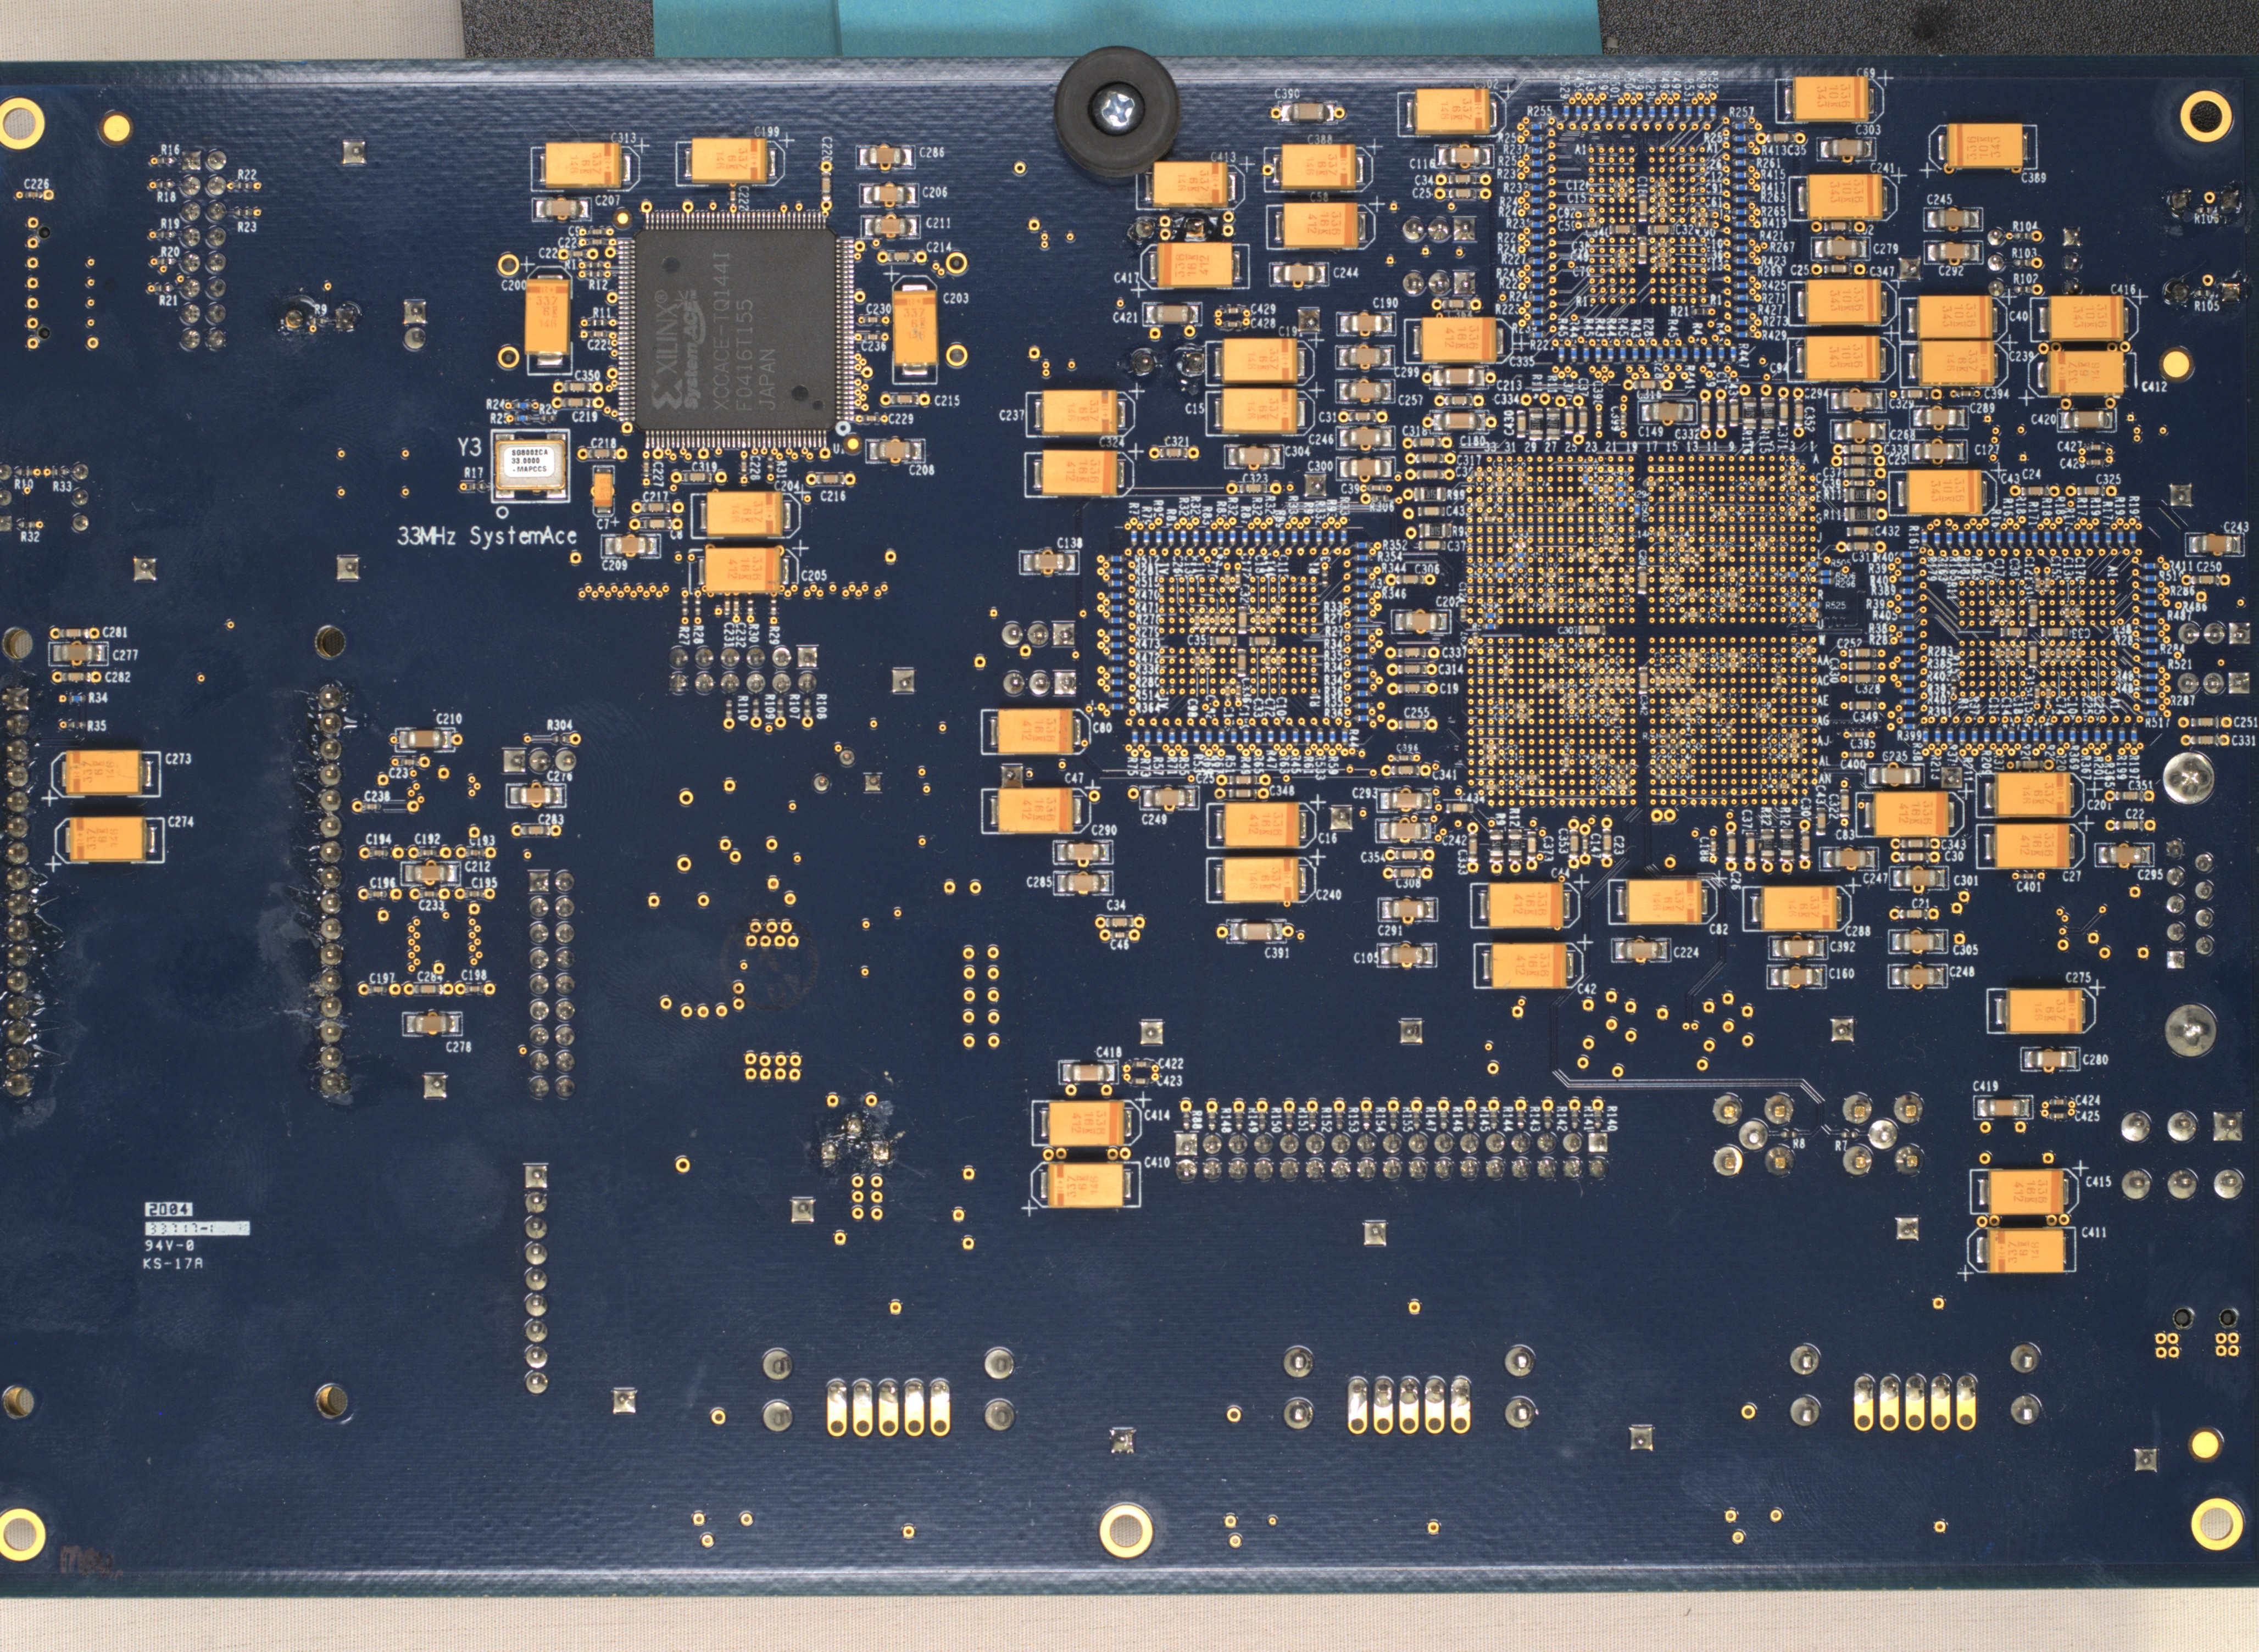capacitor C10: (1654, 240, 1671, 249)
capacitor C105: (1375, 942, 1438, 968)
capacitor C11: (1994, 644, 2001, 661)
capacitor C115: (1275, 600, 1282, 621)
capacitor C116: (1435, 144, 1494, 170)
capacitor C12: (1654, 191, 1671, 198)
capacitor C121: (2035, 575, 2042, 591)
capacitor C124: (1459, 603, 1466, 623)
capacitor C127: (1908, 438, 1968, 465)
capacitor C130: (2064, 603, 2071, 623)
capacitor C138: (1017, 549, 1080, 575)
capacitor C14: (2005, 644, 2012, 663)
capacitor C140: (1263, 610, 1272, 628)
capacitor C147: (1580, 835, 1589, 854)
capacitor C149: (1636, 400, 1700, 426)
capacitor C155: (2043, 573, 2050, 591)
capacitor C160: (1764, 965, 1828, 989)
capacitor C170: (2075, 603, 2082, 623)
capacitor C18: (1636, 195, 1647, 223), (2013, 644, 2020, 663)
capacitor C180: (1428, 409, 1491, 433)
capacitor C188: (1710, 837, 1717, 856)
capacitor C19: (1398, 684, 1426, 694)
capacitor C190: (1335, 310, 1396, 337)
capacitor C192: (417, 847, 437, 858)
capacitor C193: (465, 849, 486, 858)
capacitor C194: (368, 847, 388, 858)
capacitor C195: (465, 889, 484, 900)
capacitor C196: (368, 889, 388, 900)
capacitor C197: (368, 986, 388, 994)
capacitor C198: (465, 984, 484, 994)
capacitor C20: (1636, 566, 1647, 595)
capacitor C202: (1389, 609, 1452, 635)
capacitor C206: (858, 182, 921, 207)
capacitor C207: (531, 198, 593, 223)
capacitor C208: (865, 438, 926, 465)
capacitor C209: (600, 533, 663, 559)
capacitor C21: (1899, 908, 1929, 921)
capacitor C210: (393, 726, 458, 754)
capacitor C211: (861, 214, 921, 240)
capacitor C212: (400, 861, 460, 887)
capacitor C213: (1429, 367, 1489, 389)
capacitor C214: (887, 249, 916, 265)
capacitor C215: (889, 393, 919, 405)
capacitor C216: (816, 472, 844, 486)
capacitor C217: (642, 502, 670, 512)
capacitor C218: (588, 447, 617, 459)
capacitor C219: (559, 398, 589, 409)
capacitor C22: (2115, 821, 2145, 831)
capacitor C220: (821, 172, 831, 200)
capacitor C222: (728, 186, 737, 205)
capacitor C224: (1610, 938, 1671, 963)
capacitor C225: (589, 330, 609, 338)
capacitor C226: (25, 191, 42, 198)
capacitor C227: (642, 458, 651, 477)
capacitor C228: (740, 458, 747, 475)
capacitor C229: (861, 414, 880, 424)
capacitor C23: (1601, 828, 1612, 858), (398, 758, 419, 766)
capacitor C230: (863, 316, 880, 324)
capacitor C231: (724, 596, 731, 616)
capacitor C232: (733, 596, 740, 616)
capacitor C233: (421, 889, 438, 898)
capacitor C235: (1863, 763, 1926, 787)
capacitor C236: (861, 333, 880, 340)
capacitor C238: (360, 803, 382, 812)
capacitor C24: (2020, 486, 2050, 496)
capacitor C242: (1375, 817, 1436, 845)
capacitor C243: (2184, 531, 2245, 558)
capacitor C244: (1268, 261, 1331, 286)
capacitor C245: (1922, 205, 1984, 231)
capacitor C246: (1335, 424, 1396, 451)
capacitor C247: (1819, 847, 1880, 872)
capacitor C248: (1887, 963, 1949, 989)
capacitor C249: (1138, 786, 1201, 812)
capacitor C25: (1843, 456, 1871, 466)
capacitor C250: (2191, 573, 2220, 586)
capacitor C251: (2191, 716, 2219, 728)
capacitor C252: (1847, 649, 1877, 658)
capacitor C255: (1398, 719, 1426, 730)
capacitor C257: (1335, 379, 1396, 403)
capacitor C26: (1726, 831, 1736, 861), (1654, 181, 1671, 189)
capacitor C268: (1829, 419, 1891, 444)
capacitor C276: (505, 782, 568, 808)
capacitor C277: (47, 640, 109, 666)
capacitor C278: (402, 1012, 465, 1036)
capacitor C279: (1810, 237, 1871, 261)
capacitor C280: (2019, 1045, 2082, 1072)
capacitor C281: (60, 628, 89, 638)
capacitor C282: (61, 672, 91, 682)
capacitor C283: (521, 822, 551, 837)
capacitor C284: (414, 984, 444, 994)
capacitor C285: (1052, 870, 1114, 896)
capacitor C286: (856, 146, 916, 170)
capacitor C289: (1908, 405, 1970, 430)
capacitor C290: (1052, 840, 1114, 866)
capacitor C291: (1377, 896, 1438, 922)
capacitor C292: (1922, 240, 1984, 265)
capacitor C293: (1375, 787, 1436, 812)
capacitor C294: (1828, 388, 1887, 414)
capacitor C295: (2092, 842, 2156, 868)
capacitor C299: (1335, 344, 1396, 370)
capacitor C30: (1799, 830, 1810, 859), (1899, 852, 1929, 861)
capacitor C300: (1335, 456, 1396, 482)
capacitor C301: (1889, 866, 1950, 891)
capacitor C303: (1815, 135, 1877, 161)
capacitor C304: (1222, 444, 1286, 470)
capacitor C305: (1887, 929, 1949, 954)
capacitor C306: (1396, 575, 1426, 584)
capacitor C307: (1578, 624, 1607, 635)
capacitor C308: (1393, 866, 1422, 877)
capacitor C31: (1347, 409, 1377, 424)
capacitor C314: (1398, 663, 1428, 675)
capacitor C316: (1631, 379, 1663, 389)
capacitor C317: (1415, 452, 1445, 463)
capacitor C318: (1412, 437, 1443, 447)
capacitor C319: (684, 470, 712, 482)
capacitor C321: (1159, 445, 1189, 459)
capacitor C322: (1840, 789, 1849, 817)
capacitor C323: (1238, 482, 1266, 495)
capacitor C325: (2077, 486, 2105, 496)
capacitor C328: (1849, 673, 1877, 684)
capacitor C329: (1901, 388, 1929, 400)
capacitor C33: (1249, 637, 1277, 647)
capacitor C330: (1849, 659, 1877, 670)
capacitor C331: (2191, 735, 2219, 745)
capacitor C332: (1700, 400, 1710, 430)
capacitor C333: (1468, 831, 1479, 863)
capacitor C334: (1442, 395, 1473, 407)
capacitor C336: (1236, 649, 1247, 677)
capacitor C337: (1398, 647, 1426, 658)
capacitor C339: (1843, 444, 1871, 454)
capacitor C34: (1105, 917, 1135, 928)
capacitor C340: (1608, 224, 1636, 235)
capacitor C341: (1391, 765, 1419, 775)
capacitor C342: (1638, 666, 1649, 694)
capacitor C343: (1901, 838, 1929, 849)
capacitor C348: (1228, 789, 1258, 800)
capacitor C349: (1849, 700, 1877, 712)
capacitor C35: (1766, 132, 1796, 142)
capacitor C350: (563, 381, 591, 393)
capacitor C351: (2115, 791, 2145, 801)
capacitor C352: (1792, 396, 1803, 428)
capacitor C353: (1570, 828, 1578, 859)
capacitor C354: (1393, 847, 1424, 863)
capacitor C36: (1654, 251, 1671, 260)
capacitor C364: (1442, 298, 1472, 310)
capacitor C37: (1745, 831, 1756, 861), (1843, 468, 1871, 477)
capacitor C370: (1564, 405, 1573, 435)
capacitor C371: (1778, 396, 1789, 424)
capacitor C373: (1526, 831, 1536, 861)
capacitor C38: (1636, 235, 1647, 265)
capacitor C39: (1849, 479, 1868, 488), (1368, 484, 1386, 491)
capacitor C390: (1279, 100, 1338, 125), (1594, 410, 1603, 431)
capacitor C391: (1226, 919, 1287, 945)
capacitor C392: (1768, 935, 1829, 961)
capacitor C394: (1956, 389, 1975, 398)
capacitor C395: (1850, 731, 1868, 738)
capacitor C396: (1394, 754, 1414, 763)
capacitor C399: (1619, 410, 1626, 430)
capacitor C400: (1849, 751, 1866, 758)
capacitor C401: (2019, 873, 2038, 880)
capacitor C418: (1058, 1059, 1119, 1086)
capacitor C419: (1971, 1094, 2035, 1121)
capacitor C420: (2056, 409, 2119, 433)
capacitor C421: (1142, 302, 1203, 328)
capacitor C422: (1133, 1061, 1151, 1068)
capacitor C423: (1131, 1077, 1149, 1086)
capacitor C424: (2049, 1098, 2068, 1105)
capacitor C425: (2049, 1112, 2068, 1121)
capacitor C427: (2085, 444, 2105, 452)
capacitor C428: (1222, 321, 1242, 330)
capacitor C429: (1224, 307, 1242, 314)
capacitor C43: (1728, 398, 1740, 428), (1815, 807, 1826, 837)
capacitor C430: (1517, 409, 1526, 438)
capacitor C432: (1845, 526, 1875, 538)
capacitor C434: (1445, 803, 1473, 814)
capacitor C45: (1110, 931, 1129, 938)
capacitor C49: (1614, 251, 1631, 260)
capacitor C59: (1582, 223, 1601, 230)
capacitor C61: (1654, 210, 1671, 219)
capacitor C70: (1994, 603, 1999, 623)
capacitor C72: (1265, 652, 1272, 670)
capacitor C74: (2045, 644, 2052, 663)
capacitor C79: (1614, 261, 1633, 270)
capacitor C8: (642, 517, 673, 530)
capacitor C90: (1694, 221, 1712, 228)
capacitor C91: (1654, 200, 1670, 209)
capacitor C92: (1582, 210, 1601, 219)
capacitor C97: (1472, 631, 1479, 649)
capacitor C98: (1194, 651, 1201, 670)
capacitor unknown: (1447, 188, 1479, 200), (2026, 598, 2038, 628), (1449, 174, 1477, 186), (1824, 263, 1852, 275), (2040, 626, 2068, 638), (2026, 640, 2038, 668), (1208, 635, 1236, 647), (1715, 398, 1726, 430), (1847, 540, 1877, 551), (1578, 405, 1589, 435), (1415, 468, 1445, 479), (1647, 224, 1675, 235), (1824, 221, 1852, 231), (1229, 775, 1258, 786), (1419, 540, 1445, 551), (1238, 605, 1247, 635), (1999, 628, 2027, 637), (1417, 507, 1445, 516), (1580, 600, 1601, 610), (588, 237, 607, 247), (1714, 549, 1731, 559), (1722, 591, 1743, 600), (1491, 468, 1508, 479), (568, 249, 588, 258), (1612, 181, 1631, 189), (2085, 458, 2105, 466), (1752, 479, 1771, 488), (1671, 489, 1691, 498), (1671, 540, 1691, 549), (1722, 600, 1742, 609), (1663, 570, 1671, 589), (1684, 610, 1703, 619), (1622, 570, 1631, 589), (2054, 644, 2063, 663), (1470, 470, 1489, 479), (1561, 500, 1580, 509), (1470, 500, 1489, 509), (1542, 591, 1561, 600), (1222, 570, 1231, 589), (1603, 672, 1612, 691), (1593, 752, 1612, 761), (1663, 672, 1671, 691), (1682, 651, 1701, 659), (1722, 651, 1742, 659), (1784, 477, 1801, 486), (1794, 500, 1812, 509), (1784, 509, 1801, 517), (1754, 540, 1771, 549), (1684, 589, 1701, 598), (1512, 468, 1529, 477), (1512, 479, 1529, 488), (1571, 549, 1589, 558), (1582, 580, 1600, 589), (1542, 570, 1559, 579), (1512, 591, 1529, 600), (1482, 752, 1500, 761), (1684, 661, 1701, 670), (1785, 731, 1803, 740), (1785, 751, 1803, 759), (1775, 782, 1792, 791), (1712, 510, 1733, 517), (2045, 684, 2052, 705), (1593, 549, 1600, 570), (1643, 479, 1659, 488), (1584, 661, 1600, 670), (1722, 570, 1742, 577), (1684, 549, 1691, 568), (1673, 570, 1680, 589), (2064, 644, 2071, 663), (2075, 644, 2082, 663), (2003, 603, 2010, 623), (2033, 684, 2040, 703), (1603, 531, 1610, 551), (1603, 570, 1610, 589), (1214, 610, 1221, 630), (1224, 610, 1231, 630), (1235, 570, 1242, 589), (1254, 610, 1261, 630), (1224, 682, 1231, 701), (1235, 680, 1242, 700), (1275, 651, 1282, 670), (1503, 661, 1510, 680), (1563, 752, 1570, 772), (1542, 682, 1561, 689), (1594, 672, 1601, 691), (1614, 672, 1621, 691), (1582, 703, 1601, 710), (1614, 701, 1621, 721), (1654, 672, 1661, 691), (1684, 672, 1691, 691), (1775, 670, 1782, 689), (1754, 712, 1773, 719), (1673, 701, 1680, 721), (1684, 701, 1691, 721), (588, 228, 605, 235), (1614, 191, 1631, 198), (1654, 261, 1671, 268), (1784, 470, 1801, 477), (1654, 531, 1671, 538), (1805, 612, 1822, 619), (1491, 481, 1508, 488), (1512, 542, 1529, 549), (1542, 602, 1559, 609), (1543, 652, 1561, 659), (1512, 703, 1529, 710), (1514, 712, 1531, 719), (1482, 744, 1500, 751), (1482, 784, 1500, 791), (1563, 693, 1580, 700), (1563, 703, 1580, 710), (1624, 672, 1631, 689), (1603, 693, 1610, 710), (1614, 784, 1631, 791), (1724, 661, 1742, 668), (1805, 642, 1812, 659), (1705, 703, 1722, 710), (1694, 693, 1701, 710), (1785, 742, 1803, 749), (1675, 763, 1692, 770), (1694, 210, 1710, 217), (1482, 516, 1498, 523), (1584, 642, 1600, 649), (1614, 540, 1619, 559), (1194, 610, 1200, 630), (1205, 652, 1210, 672), (1785, 773, 1805, 779), (1205, 612, 1210, 630), (1675, 672, 1680, 689), (1705, 693, 1721, 698)
clock Y3: (489, 428, 570, 505)
component text" "336 10K 343: (1828, 286, 1866, 314), (1828, 179, 1868, 205), (1826, 342, 1866, 368), (1938, 302, 1978, 328), (1815, 82, 1852, 110), (2070, 303, 2108, 330), (1928, 477, 1966, 503), (1964, 135, 2003, 160)
component text" "336 16K 412: (1068, 1108, 1107, 1138), (1173, 251, 1212, 279), (1305, 209, 1343, 237), (1063, 458, 1101, 486), (1898, 798, 1936, 826), (728, 554, 765, 582), (2012, 1177, 2049, 1205), (1512, 891, 1549, 917), (1515, 951, 1552, 977), (2019, 831, 2054, 858), (1443, 324, 1480, 349), (1247, 812, 1284, 837)
component text" "336 16k 412: (1019, 794, 1058, 822), (1021, 717, 1058, 745)
component text" "R+ 337 6K 146: (1943, 347, 1991, 377), (2056, 356, 2103, 386), (75, 822, 121, 852), (1305, 151, 1349, 181), (1438, 95, 1482, 125), (1054, 1173, 1103, 1200), (1175, 167, 1221, 195), (72, 758, 118, 786), (730, 498, 775, 526), (1998, 1238, 2045, 1264), (714, 146, 759, 172), (901, 296, 928, 342), (535, 284, 559, 331), (568, 151, 612, 177), (1245, 345, 1289, 372), (1245, 396, 1289, 423), (1066, 398, 1110, 424), (1650, 887, 1696, 912), (1785, 894, 1831, 919), (2020, 780, 2066, 805), (2033, 998, 2077, 1022)
component text" "R+ 337 6k 146: (1247, 865, 1293, 891)
component text" "SG8002CA 33.0000 .MAPCCS: (510, 449, 549, 474)
component text" "XILINX System ACETM XCCACE-TQ144I F0416T155 JAPAN: (654, 249, 779, 414)
component text" 51R: (1547, 417, 1559, 430), (1424, 488, 1436, 500), (1854, 489, 1866, 500), (1763, 407, 1773, 419), (1429, 524, 1440, 537), (1856, 509, 1866, 519), (1745, 407, 1756, 417), (1510, 840, 1521, 851), (1491, 840, 1501, 851), (1531, 417, 1540, 430), (1782, 838, 1791, 851), (1763, 838, 1771, 849)
connector UNKNOWN: (821, 1375, 956, 1443), (1342, 1371, 1477, 1438), (1852, 1370, 1980, 1435)
electrolytic capacitor" C15: (1203, 389, 1315, 435)
electrolytic capacitor" C16: (1205, 801, 1317, 849)
electrolytic capacitor" C19: (1205, 338, 1315, 386)
electrolytic capacitor" C199: (675, 137, 787, 186)
electrolytic capacitor" C200: (526, 265, 574, 377)
electrolytic capacitor" C201: (1975, 772, 2084, 819)
electrolytic capacitor" C203: (893, 275, 940, 386)
electrolytic capacitor" C204: (689, 491, 802, 540)
electrolytic capacitor" C205: (688, 549, 798, 595)
electrolytic capacitor" C237: (1024, 389, 1137, 437)
electrolytic capacitor" C239: (1898, 342, 2010, 388)
electrolytic capacitor" C240: (1205, 856, 1315, 903)
electrolytic capacitor" C241: (1787, 174, 1899, 223)
electrolytic capacitor" C26: (1608, 879, 1717, 926)
electrolytic capacitor" C27: (1975, 822, 2085, 870)
electrolytic capacitor" C273: (49, 749, 163, 798)
electrolytic capacitor" C274: (54, 815, 165, 866)
electrolytic capacitor" C275: (1984, 986, 2098, 1035)
electrolytic capacitor" C288: (1742, 886, 1852, 933)
electrolytic capacitor" C302: (1398, 89, 1508, 137)
electrolytic capacitor" C313: (530, 140, 642, 193)
electrolytic capacitor" C324: (1023, 449, 1135, 498)
electrolytic capacitor" C335: (1405, 316, 1515, 367)
electrolytic capacitor" C347: (1787, 279, 1898, 326)
electrolytic capacitor" C388: (1261, 146, 1373, 193)
electrolytic capacitor" C389: (1928, 121, 2038, 170)
electrolytic capacitor" C40: (1898, 296, 2008, 342)
electrolytic capacitor" C410: (1030, 1161, 1142, 1208)
electrolytic capacitor" C411: (1966, 1226, 2077, 1273)
electrolytic capacitor" C412: (2027, 349, 2138, 398)
electrolytic capacitor" C413: (1137, 160, 1245, 210)
electrolytic capacitor" C414: (1031, 1098, 1142, 1147)
electrolytic capacitor" C415: (1970, 1168, 2080, 1215)
electrolytic capacitor" C416: (2027, 295, 2140, 344)
electrolytic capacitor" C417: (1140, 242, 1252, 291)
electrolytic capacitor" C42: (1472, 942, 1584, 989)
electrolytic capacitor" C43: (1889, 468, 1998, 516)
electrolytic capacitor" C44: (1470, 882, 1580, 929)
electrolytic capacitor" C47: (980, 787, 1091, 835)
electrolytic capacitor" C58: (1265, 202, 1377, 249)
electrolytic capacitor" C69: (1775, 77, 1885, 125)
electrolytic capacitor" C7: (591, 465, 616, 517)
electrolytic capacitor" C80: (980, 709, 1091, 756)
electrolytic capacitor" C83: (1854, 791, 1964, 837)
electrolytic capacitor" C94: (1785, 335, 1898, 384)
ic unknown: (617, 209, 854, 449)
pins unknown: (1172, 1129, 1610, 1186), (523, 866, 579, 1103), (2, 684, 33, 1101), (314, 684, 346, 1096), (2117, 1107, 2250, 1203), (177, 149, 228, 352), (519, 1159, 551, 1398), (666, 645, 817, 694), (1710, 1093, 1796, 1178), (1840, 1091, 1926, 1177), (2164, 835, 2217, 975), (1398, 214, 1477, 298), (998, 619, 1080, 698), (2177, 621, 2254, 696), (817, 1114, 893, 1168), (1279, 1340, 1319, 1433), (1500, 1338, 1540, 1431), (810, 745, 884, 796), (2161, 1000, 2222, 1059), (759, 1343, 798, 1438), (1785, 1340, 1824, 1435), (979, 1343, 1017, 1438), (2006, 1338, 2045, 1431), (2163, 751, 2217, 807), (498, 747, 579, 775), (1131, 347, 1205, 377), (1135, 214, 1205, 240), (400, 296, 430, 352), (2061, 224, 2084, 296), (70, 459, 91, 535), (1985, 226, 2006, 296), (0, 461, 14, 533), (609, 1385, 640, 1417), (1107, 1424, 1137, 1457), (1359, 1219, 1391, 1249), (421, 1070, 449, 1103), (2166, 481, 2196, 510), (787, 1194, 817, 1224), (340, 137, 368, 168), (333, 552, 361, 584), (887, 666, 917, 694), (1138, 1017, 1166, 1047), (2131, 1445, 2159, 1475), (1398, 1015, 1424, 1047), (132, 554, 160, 582), (1828, 1015, 1856, 1043), (1892, 1215, 1922, 1242), (1328, 805, 1354, 833), (1628, 1424, 1654, 1452), (2164, 277, 2191, 303), (998, 763, 1024, 789), (1296, 305, 1321, 333), (1301, 472, 1328, 496), (1898, 256, 1922, 281), (2219, 188, 2243, 212), (2170, 186, 2191, 214), (333, 307, 356, 331), (2219, 281, 2241, 305), (1940, 766, 1963, 789), (284, 307, 305, 330)
resistor R10: (14, 466, 33, 477)
resistor R102: (2013, 286, 2033, 293)
resistor R103: (2012, 258, 2031, 268)
resistor R104: (2012, 231, 2031, 240)
resistor R105: (2192, 289, 2210, 298)
resistor R106: (2196, 205, 2213, 214)
resistor R107: (777, 698, 784, 717)
resistor R108: (803, 696, 812, 717)
resistor R109: (752, 698, 759, 717)
resistor R11: (1843, 488, 1877, 503), (1843, 507, 1877, 523), (588, 317, 609, 326)
resistor R110: (724, 698, 733, 719)
resistor R115: (1761, 396, 1775, 430)
resistor R116: (1742, 396, 1757, 430)
resistor R12: (1759, 828, 1775, 863), (1778, 828, 1794, 863), (1508, 828, 1522, 863), (586, 270, 603, 277)
resistor R13: (1321, 570, 1328, 587)
resistor R140: (1594, 1110, 1601, 1129)
resistor R141: (1570, 1110, 1578, 1129)
resistor R142: (1543, 1110, 1552, 1129)
resistor R143: (1517, 1110, 1524, 1129)
resistor R144: (1489, 1110, 1498, 1129)
resistor R145: (1466, 1110, 1475, 1129)
resistor R146: (1438, 1110, 1447, 1129)
resistor R147: (1414, 1110, 1419, 1129)
resistor R148: (1207, 1112, 1215, 1131)
resistor R149: (1235, 1112, 1244, 1131)
resistor R150: (1259, 1112, 1265, 1131)
resistor R151: (1286, 1112, 1293, 1131)
resistor R152: (1308, 1112, 1315, 1129)
resistor R153: (1335, 1112, 1343, 1129)
resistor R154: (1361, 1110, 1372, 1129)
resistor R155: (1389, 1110, 1398, 1129)
resistor R16: (158, 156, 175, 165)
resistor R161: (1921, 528, 1928, 547)
resistor R163: (1945, 528, 1954, 549)
resistor R165: (1956, 528, 1964, 547)
resistor R17: (468, 482, 486, 491)
resistor R171: (2031, 528, 2038, 549)
resistor R179: (1933, 530, 1940, 549)
resistor R18: (158, 181, 174, 188)
resistor R181: (1970, 528, 1977, 549)
resistor R183: (1982, 528, 1989, 547)
resistor R19: (158, 231, 175, 239)
resistor R195: (2127, 528, 2136, 547)
resistor R197: (2129, 726, 2136, 747)
resistor R199: (2119, 726, 2126, 745)
resistor R20: (158, 258, 175, 265)
resistor R201: (2092, 726, 2101, 745)
resistor R21: (154, 284, 174, 293)
resistor R211: (1959, 726, 1966, 745)
resistor R213: (1935, 728, 1942, 745)
resistor R22: (235, 182, 253, 189)
resistor R223: (1528, 305, 1547, 314)
resistor R227: (1528, 258, 1545, 267)
resistor R23: (233, 209, 253, 217)
resistor R232: (1528, 184, 1545, 193)
resistor R237: (1528, 146, 1545, 154)
resistor R24: (514, 402, 531, 410)
resistor R243: (1529, 270, 1547, 277)
resistor R25: (514, 414, 531, 423)
resistor R255: (1528, 121, 1545, 130)
resistor R257: (1731, 123, 1750, 130)
resistor R261: (1731, 158, 1749, 167)
resistor R263: (1733, 195, 1750, 203)
resistor R265: (1731, 207, 1750, 216)
resistor R267: (1733, 244, 1750, 253)
resistor R269: (1733, 268, 1749, 277)
resistor R27: (682, 598, 689, 616)
resistor R271: (1733, 293, 1750, 302)
resistor R273: (1733, 317, 1750, 326)
resistor R278: (1107, 617, 1126, 624)
resistor R279: (1107, 630, 1126, 637)
resistor R28: (695, 596, 702, 616)
resistor R280: (1108, 679, 1126, 686)
resistor R281: (1107, 566, 1126, 575)
resistor R283: (1899, 649, 1917, 656)
resistor R284: (2143, 647, 2159, 656)
resistor R286: (2141, 586, 2159, 595)
resistor R287: (2141, 696, 2159, 705)
resistor R29: (770, 598, 777, 616)
resistor R290: (1647, 103, 1656, 123)
resistor R296: (1817, 577, 1835, 586)
resistor R30: (747, 598, 754, 616)
resistor R304: (552, 735, 570, 745)
resistor R306: (1372, 495, 1389, 502)
resistor R31: (766, 454, 773, 474)
resistor R32: (18, 521, 35, 528)
resistor R33: (51, 468, 68, 477)
resistor R332: (1315, 526, 1322, 545)
resistor R338: (1107, 666, 1126, 673)
resistor R34: (68, 694, 86, 703)
resistor R344: (1354, 566, 1370, 573)
resistor R346: (1354, 591, 1370, 598)
resistor R35: (68, 721, 86, 728)
resistor R352: (1354, 540, 1372, 551)
resistor R354: (1354, 554, 1372, 561)
resistor R364: (1107, 703, 1128, 710)
resistor R365: (2105, 726, 2113, 745)
resistor R367: (2080, 726, 2089, 745)
resistor R369: (2070, 726, 2077, 745)
resistor R385: (1899, 661, 1917, 668)
resistor R389: (1898, 587, 1917, 595)
resistor R391: (1899, 710, 1917, 717)
resistor R399: (1899, 723, 1917, 730)
resistor R401: (1899, 698, 1917, 705)
resistor R403: (1899, 673, 1917, 680)
resistor R405: (1899, 612, 1917, 619)
resistor R411: (2141, 561, 2159, 570)
resistor R413: (1731, 146, 1750, 154)
resistor R415: (1731, 170, 1749, 179)
resistor R417: (1731, 182, 1750, 191)
resistor R419: (1731, 219, 1750, 228)
resistor R421: (1731, 231, 1749, 240)
resistor R423: (1731, 256, 1750, 265)
resistor R425: (1733, 281, 1750, 289)
resistor R427: (1733, 305, 1750, 314)
resistor R429: (1733, 331, 1752, 338)
resistor R44: (1342, 728, 1349, 747)
resistor R441: (1680, 344, 1689, 363)
resistor R447: (1731, 344, 1736, 363)
resistor R45: (1293, 728, 1300, 745)
resistor R450: (1573, 102, 1582, 119)
resistor R47: (1266, 728, 1273, 745)
resistor R470: (1107, 591, 1126, 600)
resistor R471: (1108, 603, 1126, 612)
resistor R472: (1107, 654, 1126, 661)
resistor R473: (1108, 640, 1124, 649)
resistor R486: (2141, 598, 2159, 607)
resistor R487: (2141, 612, 2159, 619)
resistor R49: (1242, 728, 1251, 747)
resistor R501: (1610, 102, 1619, 123)
resistor R503: (1633, 500, 1640, 519)
resistor R506: (1817, 568, 1833, 577)
resistor R51: (1229, 728, 1236, 747)
resistor R512: (1107, 554, 1126, 563)
resistor R514: (1108, 691, 1126, 698)
resistor R515: (1107, 579, 1126, 587)
resistor R517: (2141, 709, 2161, 717)
resistor R519: (2141, 573, 2159, 582)
resistor R521: (2143, 659, 2161, 668)
resistor R523: (1708, 102, 1717, 123)
resistor R525: (1803, 600, 1824, 609)
resistor R529: (1561, 102, 1570, 121)
resistor R53: (1193, 728, 1200, 747)
resistor R533: (1315, 728, 1324, 747)
resistor R55: (1180, 728, 1187, 747)
resistor R57: (1156, 728, 1163, 747)
resistor R59: (1329, 728, 1336, 747)
resistor R61: (1303, 728, 1312, 745)
resistor R65: (1254, 728, 1261, 747)
resistor R67: (1217, 728, 1224, 747)
resistor R68: (1279, 728, 1286, 745)
resistor R69: (1205, 728, 1212, 747)
resistor R7: (1842, 1131, 1857, 1140)
resistor R71: (1168, 728, 1175, 747)
resistor R73: (1144, 728, 1151, 747)
resistor R75: (1131, 728, 1138, 747)
resistor R77: (1129, 530, 1138, 545)
resistor R79: (1144, 528, 1149, 545)
resistor R8: (1780, 1131, 1798, 1138)
resistor R81: (1168, 528, 1173, 545)
resistor R83: (1205, 528, 1210, 545)
resistor R85: (1215, 528, 1224, 545)
resistor R87: (1242, 528, 1249, 545)
resistor R88: (1182, 1110, 1189, 1129)
resistor R89: (1279, 528, 1286, 545)
resistor R9: (1487, 828, 1505, 863), (309, 317, 326, 326)
resistor R95: (1154, 528, 1163, 545)
resistor R99: (1414, 486, 1445, 502)
resistor unknown: (1545, 407, 1561, 442), (1528, 407, 1543, 440), (1419, 523, 1452, 538), (1598, 102, 1608, 123), (1970, 726, 1980, 747), (2015, 761, 2045, 768), (1557, 342, 1566, 363), (1631, 342, 1640, 363), (1705, 342, 1714, 363), (2091, 528, 2099, 549), (2078, 528, 2087, 549), (2019, 726, 2027, 747), (1982, 726, 1991, 747), (1586, 102, 1594, 121), (1622, 102, 1631, 121), (1659, 102, 1668, 121), (1684, 102, 1692, 121), (1731, 133, 1750, 142), (1582, 344, 1591, 363), (1643, 344, 1652, 363), (1668, 344, 1677, 363), (1784, 600, 1803, 609), (2115, 528, 2124, 547), (2066, 528, 2075, 547), (2141, 623, 2161, 631), (2141, 672, 2161, 680), (2043, 726, 2052, 745), (1994, 726, 2003, 745), (1352, 640, 1372, 649), (1352, 689, 1372, 698), (1352, 714, 1372, 723), (1528, 160, 1545, 168), (1528, 170, 1545, 179), (1528, 207, 1545, 216), (1528, 231, 1545, 240), (1528, 244, 1545, 253), (1899, 686, 1917, 694), (1945, 728, 1954, 745), (1612, 489, 1629, 498), (1612, 500, 1629, 509), (1491, 570, 1508, 579), (1191, 528, 1200, 545), (1354, 677, 1372, 686), (1636, 102, 1643, 123), (1619, 342, 1626, 363), (1656, 342, 1663, 363), (2105, 526, 2112, 547), (2056, 528, 2063, 549), (2019, 528, 2026, 549), (2006, 528, 2013, 549), (1994, 528, 2001, 549), (1615, 763, 1631, 772), (1664, 731, 1680, 740), (1526, 196, 1545, 203), (1528, 282, 1547, 289), (1528, 295, 1547, 302), (1528, 331, 1547, 338), (1673, 102, 1680, 121), (1698, 102, 1705, 121), (1570, 344, 1577, 363), (1594, 344, 1601, 363), (1692, 344, 1700, 363), (1717, 344, 1724, 363), (2043, 528, 2050, 547), (1898, 575, 1917, 582), (2057, 726, 2064, 745), (2008, 726, 2015, 745), (1480, 612, 1500, 619), (1303, 526, 1310, 545), (1328, 526, 1335, 545), (1340, 526, 1347, 545), (1352, 616, 1372, 623), (1352, 628, 1372, 635), (1352, 665, 1372, 672), (1726, 721, 1733, 740), (1654, 763, 1673, 770), (586, 261, 603, 268), (1528, 135, 1545, 142), (1528, 221, 1545, 228), (1529, 319, 1547, 326), (1691, 309, 1708, 316), (1607, 344, 1614, 361), (1784, 570, 1801, 577), (2141, 637, 2159, 644), (2143, 686, 2161, 693), (1899, 551, 1917, 558), (1899, 600, 1917, 607), (1899, 624, 1917, 631), (1922, 728, 1929, 745), (2033, 728, 2040, 745), (1582, 470, 1589, 488), (1593, 481, 1600, 498), (1612, 481, 1629, 488), (1512, 551, 1529, 558), (1491, 561, 1508, 568), (1482, 623, 1500, 630), (1229, 528, 1236, 545), (1254, 528, 1261, 545), (1266, 528, 1273, 545), (1291, 528, 1298, 545), (1354, 603, 1372, 610), (1354, 652, 1372, 659), (1354, 701, 1372, 709), (1614, 773, 1631, 780), (1654, 773, 1671, 780), (540, 416, 556, 423), (1805, 561, 1821, 568), (1899, 563, 1915, 570), (1514, 561, 1529, 568), (1180, 530, 1187, 545), (1354, 579, 1370, 586), (1664, 744, 1680, 751), (1899, 638, 1917, 644), (1950, 675, 1956, 693), (1694, 549, 1700, 566)
text "33717-1: (149, 1221, 214, 1235)
text "94V-0: (144, 1238, 196, 1254)
text "KS-17A: (142, 1256, 205, 1273)
text +: (1126, 381, 1145, 402), (1889, 165, 1908, 186), (789, 538, 810, 558), (40, 787, 60, 808), (42, 854, 63, 873), (1571, 872, 1591, 893), (2077, 812, 2096, 833), (517, 254, 537, 274), (1366, 195, 1386, 214), (1307, 381, 1326, 400), (1999, 288, 2019, 307), (2017, 388, 2036, 407), (1989, 461, 2008, 481), (2087, 977, 2106, 996), (1575, 933, 1594, 952), (880, 265, 901, 282), (1126, 440, 1144, 461), (2070, 1159, 2091, 1177), (1954, 1264, 1975, 1282), (1019, 1200, 1040, 1217), (777, 132, 796, 149), (1366, 137, 1384, 156), (1238, 154, 1256, 174), (1307, 331, 1326, 349), (1512, 333, 1529, 352), (1877, 68, 1894, 88), (1917, 161, 1936, 179), (1882, 323, 1899, 342), (1957, 780, 1975, 800), (1845, 875, 1863, 894), (1135, 1089, 1152, 1108), (1082, 698, 1100, 717), (1308, 793, 1326, 812), (1498, 82, 1517, 100), (793, 484, 812, 502), (1084, 779, 1101, 798), (1710, 868, 1728, 887), (633, 137, 651, 154), (2131, 288, 2149, 305), (2085, 780, 2103, 798), (1308, 849, 1326, 866), (1129, 282, 1149, 298), (1889, 274, 1906, 289), (2001, 333, 2017, 351), (610, 516, 621, 528)
text 1: (1808, 440, 1815, 452)
text 11: (1707, 440, 1719, 454)
text 13: (1685, 440, 1700, 452)
text 14: (1636, 530, 1647, 538)
text 15: (1664, 440, 1680, 452)
text 17: (1643, 438, 1659, 452)
text 19: (1624, 440, 1638, 452)
text 2: (1868, 223, 1875, 235)
text 20: (2056, 758, 2066, 772)
text 2004: (146, 1203, 189, 1215)
text 21: (1603, 440, 1617, 452)
text 23: (1584, 440, 1598, 454)
text 25: (1563, 440, 1578, 452)
text 27: (1543, 440, 1557, 452)
text 28: (1652, 365, 1666, 379)
text 29: (1524, 440, 1536, 454)
text 3: (1319, 554, 1331, 563), (1789, 440, 1796, 452)
text 31: (1503, 440, 1515, 454)
text 33: (1484, 440, 1498, 452)
text 33MHz: (396, 524, 456, 545)
text 5: (1770, 438, 1775, 452)
text 6: (1215, 552, 1228, 559)
text 7: (1749, 440, 1754, 454)
text 9: (1728, 440, 1735, 452), (1705, 381, 1717, 388)
text A: (1812, 452, 1821, 465)
text A1: (1573, 142, 1587, 156), (2106, 563, 2119, 579), (2108, 696, 2120, 710), (1158, 696, 1170, 709), (1705, 142, 1719, 153), (1159, 561, 1170, 575)
text AA: (1815, 654, 1829, 666)
text AC: (1817, 673, 1829, 687)
text AE: (1817, 694, 1829, 707)
text AG: (1817, 712, 1829, 728)
text AJ: (1815, 733, 1829, 747)
text AL: (1817, 754, 1831, 768)
text AN: (1817, 772, 1833, 784)
text C: (567, 224, 575, 237), (1205, 694, 1217, 703), (1815, 472, 1822, 484)
text C1: (1238, 703, 1251, 717), (1717, 370, 1728, 384), (1222, 707, 1235, 717)
text C10: (1275, 694, 1287, 717), (2066, 694, 2078, 716), (1703, 237, 1722, 249)
text C105: (1352, 951, 1380, 965)
text C11: (1987, 694, 2001, 716), (1196, 552, 1207, 575)
text C115: (1277, 552, 1289, 580)
text C116: (1407, 158, 1435, 170)
text C12: (1564, 177, 1586, 191), (1703, 170, 1722, 182)
text C121: (2024, 554, 2035, 580)
text C127: (1973, 444, 1999, 456)
text C13: (1703, 260, 1724, 272), (1184, 554, 1196, 573)
text C130: (2063, 556, 2073, 584)
text C134: (1459, 580, 1466, 603)
text C138: (1054, 537, 1084, 549)
text C14: (2001, 696, 2012, 716)
text C140: (1265, 551, 1275, 580)
text C147: (1589, 831, 1601, 861)
text C149: (1636, 424, 1663, 438)
text C15: (1566, 191, 1587, 203), (1184, 402, 1205, 414), (2024, 693, 2035, 712)
text C155: (2049, 556, 2063, 582)
text C16: (1317, 831, 1338, 845)
text C160: (1828, 966, 1856, 980)
text C17: (1992, 558, 2005, 577)
text C170: (2075, 554, 2087, 584)
text C172: (1240, 552, 1252, 580)
text C18: (1254, 552, 1265, 575), (1636, 175, 1649, 195), (2013, 694, 2024, 716)
text C180: (1459, 435, 1486, 447)
text C188: (1698, 835, 1710, 863)
text C19: (1277, 324, 1298, 338), (1438, 682, 1459, 694)
text C190: (1372, 296, 1398, 309)
text C192: (412, 831, 442, 845)
text C193: (468, 833, 496, 847)
text C194: (363, 831, 393, 845)
text C195: (470, 875, 498, 889)
text C196: (368, 875, 396, 889)
text C197: (368, 970, 396, 986)
text C198: (460, 968, 489, 982)
text C199: (752, 125, 780, 139)
text C20: (1638, 549, 1647, 566)
text C200: (500, 279, 526, 291)
text C201: (2085, 798, 2112, 812)
text C202: (1435, 595, 1461, 609)
text C203: (942, 291, 970, 305)
text C204: (773, 479, 800, 491)
text C205: (800, 568, 828, 582)
text C206: (921, 186, 947, 198)
text C207: (595, 193, 621, 207)
text C208: (907, 463, 935, 477)
text C209: (600, 559, 628, 572)
text C21: (1910, 898, 1929, 908)
text C210: (433, 710, 463, 726)
text C211: (924, 216, 952, 230)
text C212: (463, 859, 491, 873)
text C213: (1496, 379, 1522, 393)
text C214: (924, 240, 952, 254)
text C215: (933, 395, 961, 409)
text C216: (819, 489, 847, 503)
text C217: (640, 491, 670, 502)
text C218: (589, 437, 616, 449)
text C219: (570, 410, 598, 423)
text C22: (537, 246, 558, 260), (2124, 807, 2145, 821), (556, 237, 577, 249)
text C220: (821, 135, 833, 161)
text C222: (738, 184, 751, 212)
text C224: (1673, 943, 1700, 959)
text C225: (586, 338, 612, 351)
text C226: (23, 177, 49, 189)
text C227: (651, 459, 665, 488)
text C228: (749, 454, 761, 481)
text C229: (887, 412, 914, 424)
text C23: (1612, 833, 1626, 856), (388, 766, 409, 780)
text C230: (865, 302, 891, 316)
text C231: (723, 621, 735, 649)
text C232: (735, 621, 747, 649)
text C233: (417, 898, 445, 912)
text C235: (1880, 749, 1908, 763)
text C236: (861, 340, 887, 352)
text C237: (998, 407, 1024, 423)
text C238: (363, 789, 391, 803)
text C239: (2008, 349, 2035, 363)
text C24: (2020, 466, 2042, 482)
text C240: (1314, 887, 1343, 901)
text C241: (1868, 161, 1896, 174)
text C242: (1442, 833, 1468, 847)
text C243: (2222, 519, 2248, 533)
text C244: (1333, 267, 1361, 279)
text C245: (1926, 191, 1952, 207)
text C246: (1307, 433, 1335, 445)
text C247: (1863, 872, 1889, 886)
text C248: (1949, 966, 1975, 979)
text C249: (1140, 812, 1168, 828)
text C25: (1789, 263, 1810, 277), (2080, 694, 2094, 716), (1412, 186, 1431, 200), (1194, 772, 1215, 784), (2094, 694, 2105, 716), (1887, 454, 1906, 465)
text C250: (2196, 561, 2224, 573)
text C251: (2233, 716, 2257, 730)
text C252: (1835, 637, 1863, 649)
text C255: (1401, 705, 1431, 719)
text C257: (1396, 393, 1424, 407)
text C26: (1729, 870, 1743, 891), (1172, 554, 1184, 575), (1703, 158, 1722, 170)
text C268: (1889, 428, 1915, 440)
text C27: (2061, 870, 2084, 884)
text C273: (163, 751, 193, 766)
text C274: (167, 814, 196, 830)
text C275: (2063, 970, 2091, 984)
text C276: (544, 768, 574, 782)
text C277: (110, 647, 140, 663)
text C278: (444, 1040, 472, 1054)
text C279: (1871, 242, 1899, 256)
text C280: (2082, 1052, 2110, 1066)
text C281: (100, 626, 128, 638)
text C282: (103, 668, 132, 686)
text C283: (537, 812, 565, 826)
text C284: (416, 970, 444, 982)
text C285: (1026, 875, 1052, 889)
text C286: (919, 146, 945, 160)
text C288: (1845, 924, 1871, 936)
text C289: (1970, 402, 1996, 414)
text C290: (1091, 822, 1117, 835)
text C291: (1377, 924, 1403, 936)
text C292: (1938, 265, 1964, 277)
text C293: (1350, 786, 1379, 800)
text C294: (1803, 386, 1829, 400)
text C295: (2136, 868, 2164, 880)
text C299: (1393, 365, 1421, 377)
text C3: (1454, 465, 1468, 479)
text C30: (1943, 851, 1964, 863), (1801, 794, 1812, 817)
text C300: (1307, 459, 1335, 472)
text C301: (1952, 873, 1980, 887)
text C302: (1473, 77, 1498, 89)
text C303: (1854, 125, 1882, 135)
text C304: (1286, 445, 1312, 458)
text C305: (1952, 943, 1978, 958)
text C306: (1414, 563, 1442, 575)
text C307: (1556, 624, 1578, 635)
text C308: (1394, 877, 1422, 889)
text C31: (2022, 666, 2036, 686), (1317, 410, 1336, 423), (1850, 551, 1870, 563)
text C313: (610, 132, 637, 144)
text C314: (1436, 663, 1464, 677)
text C316: (1635, 389, 1663, 400)
text C317: (1456, 452, 1482, 466)
text C318: (1400, 424, 1428, 437)
text C319: (689, 459, 717, 474)
text C32: (1238, 582, 1251, 603), (1675, 223, 1694, 235)
text C321: (1163, 435, 1189, 447)
text C322: (1828, 793, 1840, 821)
text C323: (1242, 472, 1268, 484)
text C324: (1098, 437, 1126, 449)
text C325: (2094, 472, 2122, 486)
text C328: (1854, 682, 1882, 694)
text C329: (1889, 396, 1915, 410)
text C33: (2070, 628, 2091, 640), (1252, 696, 1263, 717)
text C330: (1828, 656, 1840, 684)
text C331: (2231, 733, 2255, 747)
text C332: (1673, 428, 1701, 440)
text C333: (1457, 849, 1468, 875)
text C334: (1494, 393, 1521, 405)
text C335: (1508, 356, 1535, 368)
text C336: (1242, 677, 1252, 703)
text C337: (1440, 647, 1468, 658)
text C339: (1882, 444, 1908, 454)
text C34: (1105, 898, 1128, 912), (1412, 174, 1435, 186)
text C340: (1584, 226, 1610, 237)
text C341: (1431, 766, 1457, 782)
text C342: (1638, 694, 1649, 717)
text C343: (1940, 837, 1968, 851)
text C347: (1868, 265, 1894, 277)
text C348: (1268, 782, 1296, 798)
text C349: (1852, 710, 1878, 723)
text C35: (1186, 633, 1207, 645), (1787, 144, 1806, 156)
text C350: (574, 368, 600, 381)
text C351: (2127, 779, 2154, 791)
text C352: (1803, 405, 1815, 433)
text C353: (1557, 826, 1571, 854)
text C354: (1359, 851, 1387, 865)
text C36: (2008, 556, 2020, 579), (1703, 249, 1722, 260)
text C364: (1447, 309, 1473, 319)
text C37: (1742, 807, 1754, 830), (1577, 377, 1589, 398), (1447, 540, 1466, 552), (1822, 466, 1842, 477)
text C370: (1563, 374, 1575, 402)
text C371: (1777, 423, 1789, 449)
text C373: (1542, 835, 1554, 863)
text C38: (1570, 240, 1591, 251)
text C388: (1307, 133, 1333, 146)
text C389: (2020, 170, 2047, 184)
text C39: (1340, 482, 1361, 495), (1822, 477, 1842, 489)
text C390: (1273, 86, 1300, 100), (1593, 377, 1603, 405)
text C391: (1263, 945, 1291, 961)
text C392: (1829, 940, 1856, 952)
text C394: (1984, 388, 2010, 398)
text C395: (1849, 738, 1877, 751)
text C396: (1394, 744, 1419, 752)
text C399: (1610, 403, 1621, 431)
text C40: (2008, 309, 2029, 323)
text C400: (1840, 758, 1864, 770)
text C401: (2015, 880, 2042, 894)
text C410: (1144, 1156, 1172, 1170)
text C411: (2080, 1224, 2108, 1240)
text C412: (2140, 379, 2168, 393)
text C413: (1208, 151, 1236, 165)
text C414: (1144, 1107, 1172, 1122)
text C415: (2085, 1175, 2112, 1187)
text C416: (2108, 282, 2136, 295)
text C417: (1114, 270, 1140, 284)
text C418: (1094, 1043, 1122, 1057)
text C419: (1971, 1079, 1999, 1093)
text C42: (2057, 456, 2080, 470), (1577, 982, 1598, 994)
text C420: (2029, 412, 2056, 426)
text C421: (1112, 310, 1138, 323)
text C422: (1156, 1057, 1184, 1070)
text C423: (1154, 1073, 1184, 1087)
text C424: (2073, 1094, 2103, 1107)
text C425: (2073, 1110, 2101, 1122)
text C427: (2056, 440, 2082, 452)
text C428: (1251, 316, 1275, 330)
text C429: (1249, 302, 1275, 316)
text C43: (1814, 784, 1828, 805), (1999, 472, 2019, 486), (1445, 505, 1466, 517), (1728, 375, 1740, 396)
text C430: (1503, 409, 1515, 437)
text C432: (1873, 523, 1901, 538)
text C434: (1459, 793, 1486, 805)
text C44: (1550, 866, 1571, 879)
text C45: (1108, 938, 1129, 951)
text C47: (1063, 772, 1084, 784)
text C49: (1570, 251, 1589, 263)
text C58: (1308, 191, 1329, 202)
text C59: (1556, 219, 1577, 231)
text C61: (1703, 196, 1722, 209)
text C65: (1563, 712, 1580, 721)
text C69: (1856, 67, 1875, 77)
text C7: (596, 517, 610, 531), (1207, 559, 1219, 573)
text C70: (1982, 561, 1994, 582)
text C72: (1265, 696, 1275, 717)
text C74: (2054, 694, 2068, 716)
text C79: (1571, 263, 1591, 279)
text C8: (670, 528, 682, 540)
text C80: (1091, 721, 1112, 735)
text C82: (1708, 922, 1729, 935)
text C83: (1835, 830, 1854, 840)
text C90: (1696, 226, 1717, 237)
text C91: (1705, 182, 1722, 195)
text C92: (1556, 207, 1577, 219)
text C94: (1768, 361, 1789, 374)
text C97: (1459, 630, 1470, 649)
text C98: (1186, 696, 1200, 719)
text E: (1815, 491, 1822, 503)
text G: (1815, 512, 1822, 524)
text J: (1817, 531, 1822, 544)
text L: (1817, 547, 1822, 561)
text R: (1703, 361, 1717, 370), (1817, 589, 1824, 602)
text R1: (1307, 561, 1321, 575), (1708, 293, 1722, 305), (1308, 694, 1321, 709), (1957, 696, 1970, 710), (565, 258, 577, 270), (1575, 295, 1587, 307), (1991, 507, 2001, 521)
text R10: (12, 477, 33, 491)
text R102: (2012, 272, 2038, 286)
text R103: (2010, 247, 2038, 258)
text R104: (2010, 219, 2038, 231)
text R105: (2194, 300, 2220, 312)
text R106: (2194, 212, 2220, 224)
text R107: (787, 693, 802, 721)
text R108: (816, 691, 828, 721)
text R109: (763, 693, 775, 721)
text R11: (1545, 374, 1559, 395), (1822, 488, 1843, 502), (591, 305, 610, 319), (1822, 509, 1842, 521), (1945, 582, 1957, 600)
text R110: (737, 694, 749, 723)
text R114: (1531, 374, 1543, 400)
text R115: (1759, 428, 1770, 454)
text R116: (1742, 428, 1752, 454)
text R12: (1759, 805, 1773, 828), (588, 279, 609, 291), (1508, 807, 1521, 828), (1778, 805, 1791, 826)
text R140: (1607, 1103, 1617, 1133)
text R141: (1582, 1103, 1594, 1133)
text R142: (1554, 1103, 1568, 1135)
text R143: (1529, 1105, 1542, 1135)
text R144: (1501, 1103, 1514, 1135)
text R145: (1477, 1103, 1491, 1133)
text R146: (1450, 1103, 1464, 1135)
text R147: (1424, 1103, 1438, 1135)
text R148: (1219, 1105, 1233, 1135)
text R149: (1247, 1105, 1259, 1135)
text R15: (1950, 654, 1961, 675)
text R150: (1270, 1105, 1284, 1135)
text R151: (1296, 1103, 1310, 1135)
text R152: (1319, 1105, 1335, 1135)
text R153: (1347, 1105, 1361, 1135)
text R154: (1373, 1105, 1389, 1135)
text R155: (1400, 1103, 1415, 1135)
text R16: (160, 142, 181, 156), (2001, 496, 2013, 517)
text R161: (1906, 523, 1921, 551)
text R163: (1936, 556, 1949, 580)
text R165: (1949, 556, 1959, 582)
text R17: (463, 466, 484, 479), (2101, 500, 2113, 521), (2077, 496, 2089, 516), (2064, 507, 2075, 526)
text R171: (2027, 500, 2040, 526)
text R179: (1926, 556, 1938, 582)
text R18: (156, 189, 175, 203), (2015, 495, 2027, 514), (2054, 495, 2066, 514), (2042, 496, 2052, 517)
text R181: (1959, 556, 1971, 580)
text R183: (1971, 556, 1982, 580)
text R19: (160, 217, 181, 230), (2113, 495, 2126, 516), (2089, 496, 2101, 516)
text R195: (2127, 495, 2141, 523)
text R197: (2127, 752, 2141, 780)
text R199: (2115, 752, 2127, 782)
text R2: (2043, 744, 2056, 758), (538, 403, 551, 416)
text R20: (160, 246, 181, 258), (2019, 744, 2031, 761)
text R201: (2092, 754, 2105, 780)
text R209: (1980, 749, 1992, 775)
text R21: (1668, 303, 1689, 317), (158, 295, 177, 307)
text R211: (1963, 756, 1975, 782)
text R213: (1929, 754, 1942, 782)
text R22: (235, 168, 258, 181), (1529, 338, 1549, 351), (1496, 231, 1517, 242), (1498, 279, 1517, 289)
text R223: (1494, 302, 1521, 316)
text R227: (1500, 253, 1526, 265)
text R23: (237, 219, 258, 233), (1505, 217, 1526, 230), (1512, 321, 1531, 333), (1496, 168, 1515, 179)
text R233: (1503, 181, 1528, 195)
text R237: (1503, 144, 1528, 154)
text R24: (1508, 289, 1528, 303), (486, 398, 505, 410), (1498, 195, 1517, 207), (1496, 244, 1517, 254), (1498, 207, 1517, 217)
text R243: (1494, 267, 1521, 279)
text R25: (489, 412, 509, 424), (1498, 154, 1517, 167), (1498, 132, 1517, 142), (1703, 132, 1722, 142)
text R255: (1526, 103, 1552, 117)
text R257: (1728, 105, 1754, 119)
text R261: (1756, 156, 1780, 168)
text R263: (1759, 191, 1785, 203)
text R265: (1761, 205, 1787, 217)
text R267: (1770, 240, 1794, 254)
text R269: (1756, 265, 1784, 277)
text R27: (679, 624, 691, 647), (1324, 624, 1343, 638), (1322, 612, 1343, 624)
text R271: (1761, 291, 1785, 303)
text R273: (1763, 314, 1789, 326)
text R278: (1135, 614, 1161, 624)
text R279: (1135, 626, 1159, 637)
text R28: (693, 623, 705, 645), (1642, 316, 1654, 337), (1868, 633, 1887, 645), (2113, 635, 2134, 645)
text R280: (1133, 675, 1161, 687)
text R281: (1133, 565, 1159, 575)
text R283: (1926, 645, 1954, 658)
text R284: (2159, 642, 2187, 656)
text R286: (2170, 586, 2196, 596)
text R287: (2168, 693, 2196, 707)
text R29: (768, 624, 780, 647), (1635, 70, 1645, 91), (1696, 68, 1707, 89), (1598, 70, 1608, 89), (1631, 488, 1645, 500)
text R290: (1645, 77, 1656, 105)
text R296: (1835, 580, 1856, 589)
text R30: (749, 623, 759, 644)
text R304: (545, 717, 574, 731)
text R306: (1370, 502, 1396, 512)
text R31: (775, 459, 787, 479)
text R32: (19, 530, 40, 544), (1226, 496, 1240, 517), (1265, 495, 1277, 516), (1252, 495, 1263, 517), (1189, 495, 1201, 514), (1179, 496, 1189, 516)
text R33: (51, 479, 72, 493), (1338, 495, 1350, 516), (1322, 600, 1343, 612), (1287, 495, 1298, 516)
text R332: (1315, 498, 1326, 528)
text R338: (1135, 663, 1161, 675)
text R34: (88, 691, 109, 705), (1322, 661, 1343, 673), (1322, 673, 1343, 686), (1322, 638, 1343, 649)
text R344: (1380, 561, 1407, 573)
text R346: (1380, 587, 1408, 600)
text R35: (86, 719, 107, 733), (1370, 577, 1389, 589), (1324, 649, 1343, 661), (1324, 696, 1343, 707)
text R352: (1382, 538, 1407, 551)
text R354: (1377, 549, 1405, 563)
text R36: (1322, 707, 1343, 719), (1322, 686, 1343, 696)
text R364: (1135, 701, 1161, 714)
text R365: (2105, 761, 2117, 787)
text R367: (2080, 754, 2092, 780)
text R369: (2068, 745, 2080, 772)
text R37: (1947, 744, 1959, 765), (1992, 752, 2005, 772), (1970, 694, 1982, 714)
text R38: (1912, 742, 1924, 763), (2112, 623, 2133, 635), (1868, 623, 1887, 633)
text R385: (1926, 658, 1952, 670)
text R389: (1870, 586, 1898, 596)
text R39: (1868, 561, 1887, 575), (1926, 682, 1945, 694), (1864, 598, 1885, 609)
text R391: (1926, 705, 1952, 719)
text R399: (1894, 730, 1922, 742)
text R4: (1715, 321, 1728, 337), (1691, 323, 1703, 335)
text R40: (1871, 551, 1894, 563), (1870, 575, 1891, 586)
text R401: (1928, 694, 1952, 705)
text R403: (1926, 670, 1954, 682)
text R405: (1871, 609, 1898, 621)
text R411: (2170, 559, 2194, 572)
text R413: (1761, 144, 1787, 156)
text R415: (1759, 168, 1785, 181)
text R417: (1761, 181, 1785, 191)
text R419: (1761, 216, 1787, 230)
text R421: (1757, 230, 1784, 240)
text R423: (1761, 254, 1787, 267)
text R425: (1761, 279, 1787, 291)
text R427: (1757, 303, 1782, 316)
text R429: (1759, 330, 1787, 340)
text R43: (1629, 317, 1642, 340), (1594, 317, 1607, 337), (1586, 72, 1596, 93)
text R44: (1605, 317, 1617, 338), (1570, 317, 1580, 338), (1349, 728, 1359, 749)
text R441: (1684, 363, 1696, 389)
text R447: (1736, 342, 1750, 370)
text R45: (1557, 316, 1570, 338), (1617, 316, 1629, 338), (1666, 319, 1680, 338), (1582, 317, 1594, 338), (1291, 752, 1301, 775)
text R450: (1573, 68, 1586, 95)
text R47: (1265, 749, 1279, 770)
text R470: (1133, 587, 1161, 602)
text R471: (1135, 602, 1159, 614)
text R472: (1135, 651, 1161, 663)
text R473: (1133, 638, 1161, 649)
text R48: (2115, 668, 2134, 682), (2113, 682, 2134, 694)
text R486: (2182, 600, 2208, 612)
text R487: (2166, 609, 2192, 623)
text R49: (1238, 754, 1252, 775), (1659, 70, 1671, 89), (1671, 68, 1682, 89)
text R50: (1622, 68, 1635, 89)
text R501: (1608, 74, 1621, 100)
text R503: (1642, 500, 1649, 523)
text R505: (1829, 558, 1852, 566)
text R506: (1835, 572, 1856, 580)
text R51: (1226, 752, 1236, 775)
text R512: (1133, 552, 1159, 565)
text R514: (1135, 687, 1161, 701)
text R515: (1135, 577, 1159, 587)
text R517: (2145, 717, 2171, 730)
text R519: (2157, 570, 2184, 582)
text R521: (2166, 658, 2192, 672)
text R523: (1707, 70, 1719, 95)
text R525: (1824, 602, 1847, 610)
text R529: (1559, 74, 1570, 100)
text R53: (1191, 752, 1203, 773), (1684, 77, 1696, 96)
text R533: (1314, 752, 1326, 782)
text R55: (1179, 756, 1189, 777)
text R59: (1328, 754, 1338, 775)
text R61: (1303, 754, 1314, 775)
text R63: (1279, 752, 1289, 775)
text R65: (1252, 754, 1265, 775)
text R67: (1214, 752, 1226, 775)
text R69: (1203, 754, 1214, 772)
text R7: (1833, 1138, 1847, 1152)
text R71: (1166, 756, 1179, 777)
text R73: (1140, 756, 1152, 779)
text R75: (1126, 756, 1140, 777), (1152, 754, 1165, 777)
text R77: (1128, 502, 1140, 523)
text R79: (1142, 503, 1152, 528)
text R8: (1792, 1138, 1806, 1149)
text R81: (1165, 507, 1177, 530)
text R83: (1201, 505, 1214, 526)
text R85: (1215, 498, 1228, 523)
text R87: (1240, 505, 1252, 526)
text R88: (1191, 1108, 1203, 1131)
text R89: (1275, 509, 1286, 530)
text R9: (314, 303, 328, 316), (1452, 524, 1464, 538), (1494, 812, 1507, 826), (1303, 502, 1315, 514)
text R93: (1326, 496, 1338, 519)
text R95: (1152, 498, 1165, 519)
text R99: (1445, 489, 1466, 502)
text SystemAce: (468, 523, 579, 551)
text U: (831, 442, 840, 454), (1815, 619, 1824, 630)
text W: (1817, 633, 1826, 645)
text Y3: (456, 435, 482, 458)
